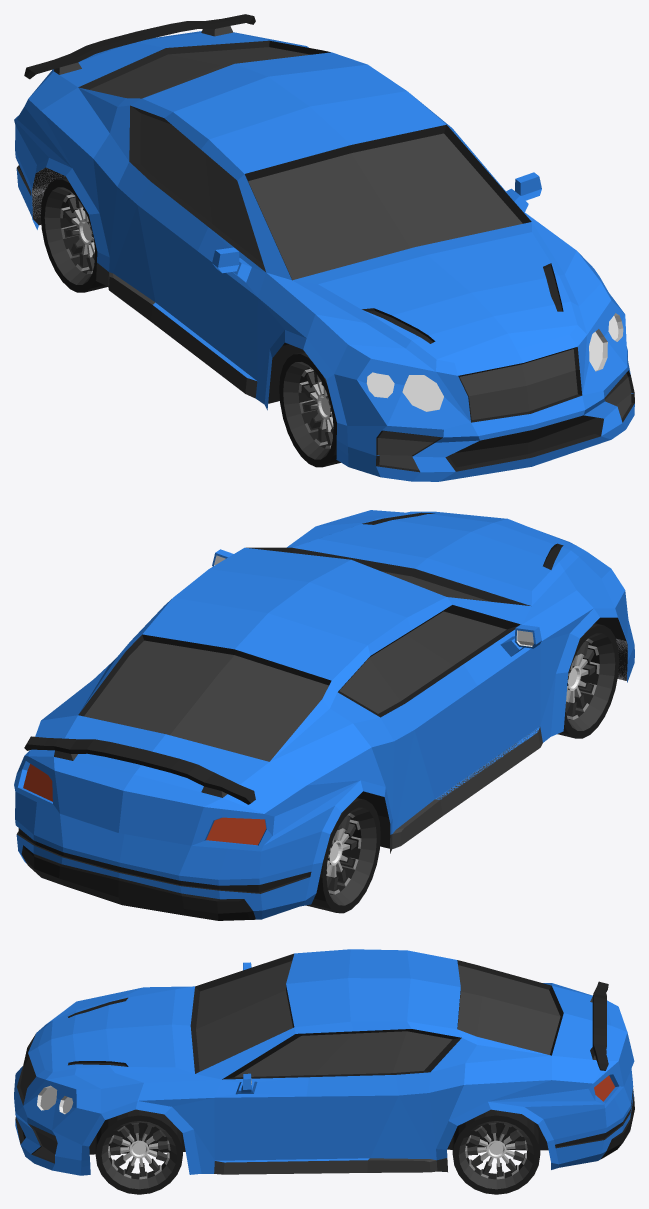
The model's file is bentleycontinentalsupersports2017.fbx.
3 renders of one model, top to bottom at view 1: azimuth 30°, elevation 25°; view 2: azimuth 150°, elevation 25°; view 3: azimuth 270°, elevation 25°, orthographic. The views are drawn at different scales.
Visible parts, largest first — view 1: BlueBody, FrontRight, BackRight; view 2: BlueBody, BackRight, FrontRight; view 3: BlueBody, BackLeft, FrontLeft.
Part boxes in pixels (x1=…): BlueBody: x1=14, y1=14, x2=634, y2=481; FrontRight: x1=279, y1=351, x2=340, y2=467; BackRight: x1=40, y1=177, x2=107, y2=292; BlueBody: x1=14, y1=510, x2=634, y2=920; BackRight: x1=306, y1=798, x2=380, y2=913; FrontRight: x1=557, y1=623, x2=619, y2=738; BlueBody: x1=14, y1=949, x2=634, y2=1175; BackLeft: x1=452, y1=1109, x2=540, y2=1194; FrontLeft: x1=95, y1=1109, x2=182, y2=1194.
Bounding box in the file's own units: 2.14 × 4.75 × 1.39.
